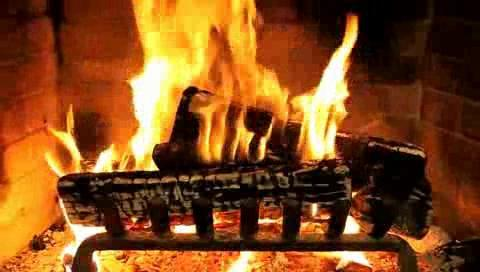fire: (129, 5, 348, 170)
